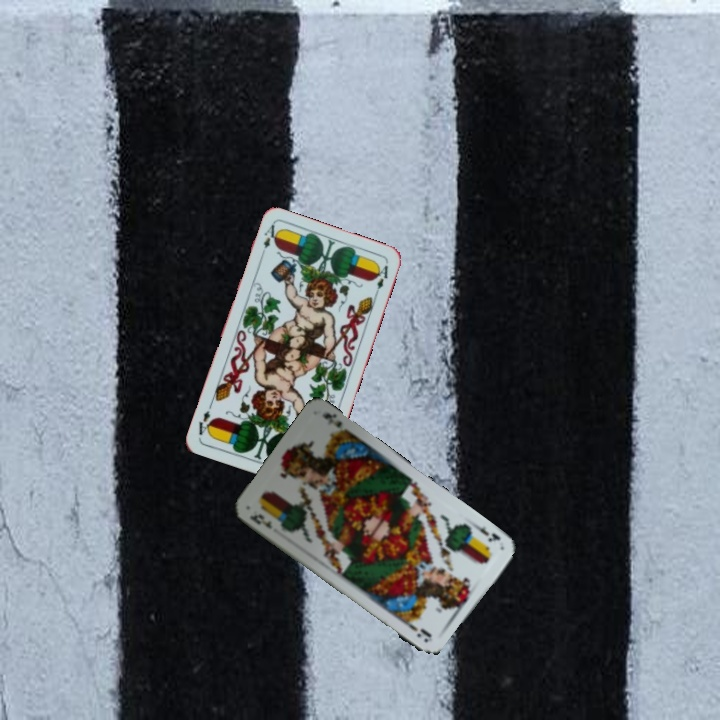EA: (256, 221, 280, 260)
EK: (470, 519, 503, 545), (245, 510, 274, 531)
